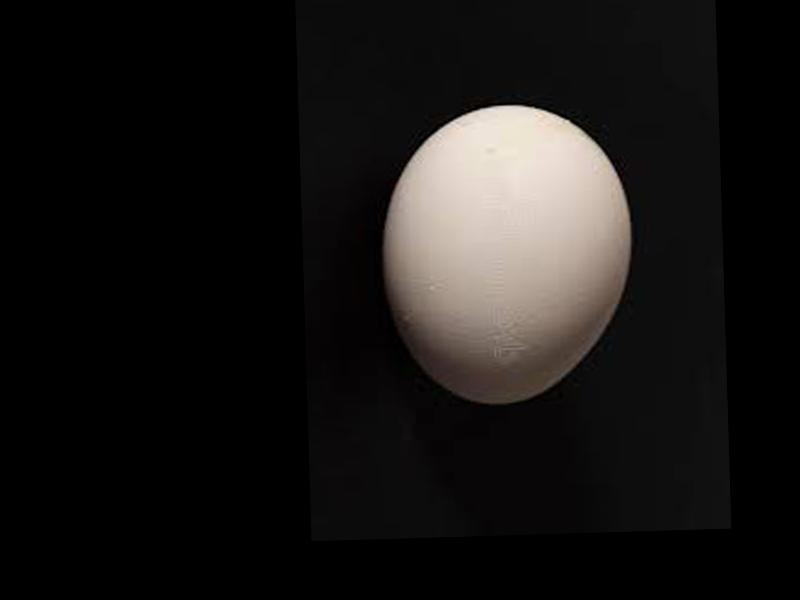Eggs: (380, 99, 635, 406)
